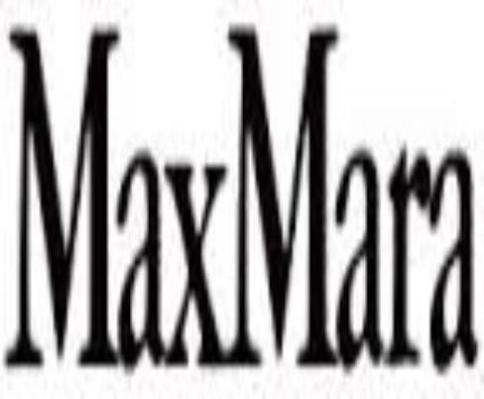MAX-MARA: (8, 21, 484, 370)
